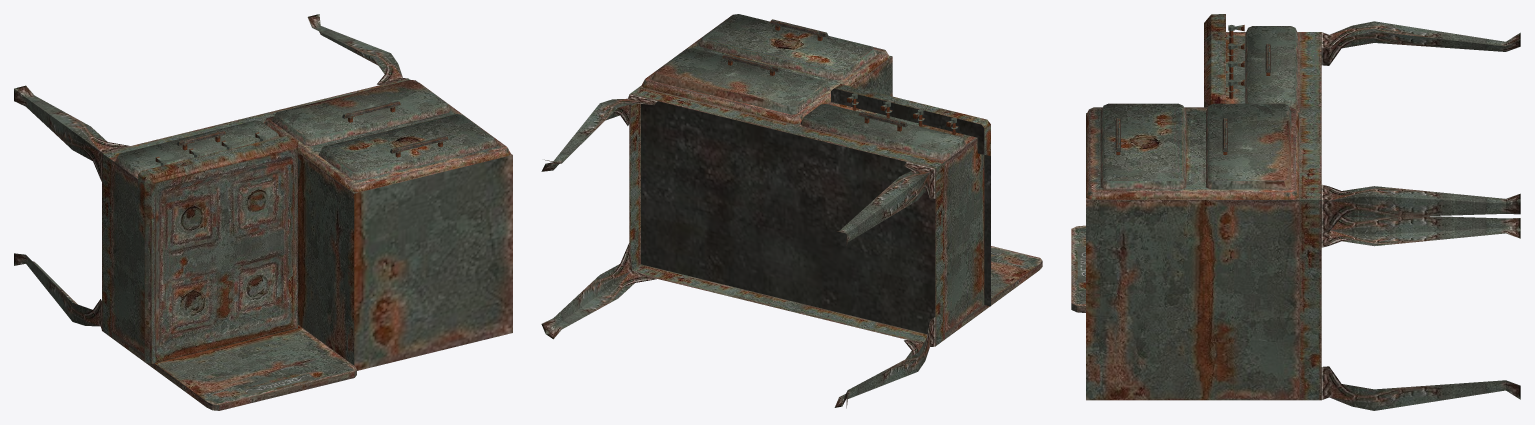
File: prop_stove02c.glb
3 renders of one model, left to right at view 1: azimuth 30°, elevation 25°; view 2: azimuth 150°, elevation 25°; view 3: azimuth 270°, elevation 25°, orthographic. The views are drawn at different scales.
Size of the model in its own units: 56.26 by 34.63 by 61.
Materials: 1 (1 with a texture image).
